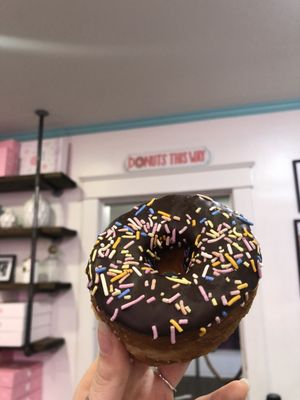salad: (85, 194, 263, 365)
